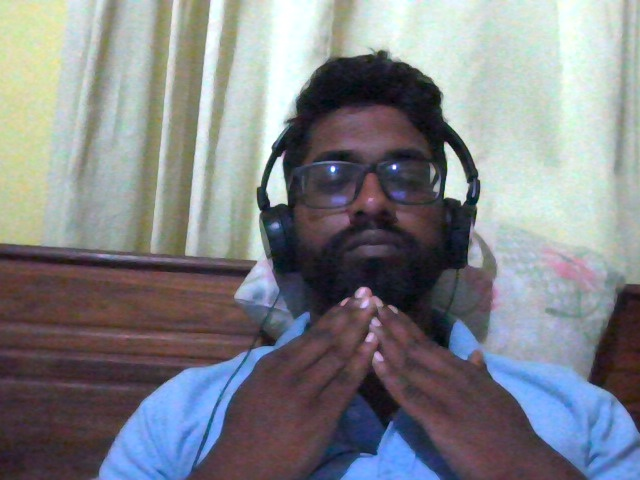Thank you: (141, 272, 599, 480)
